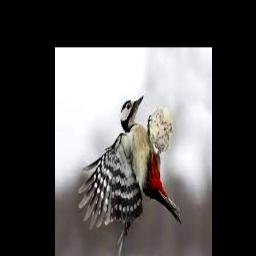Woodpecker: (78, 96, 182, 256)
